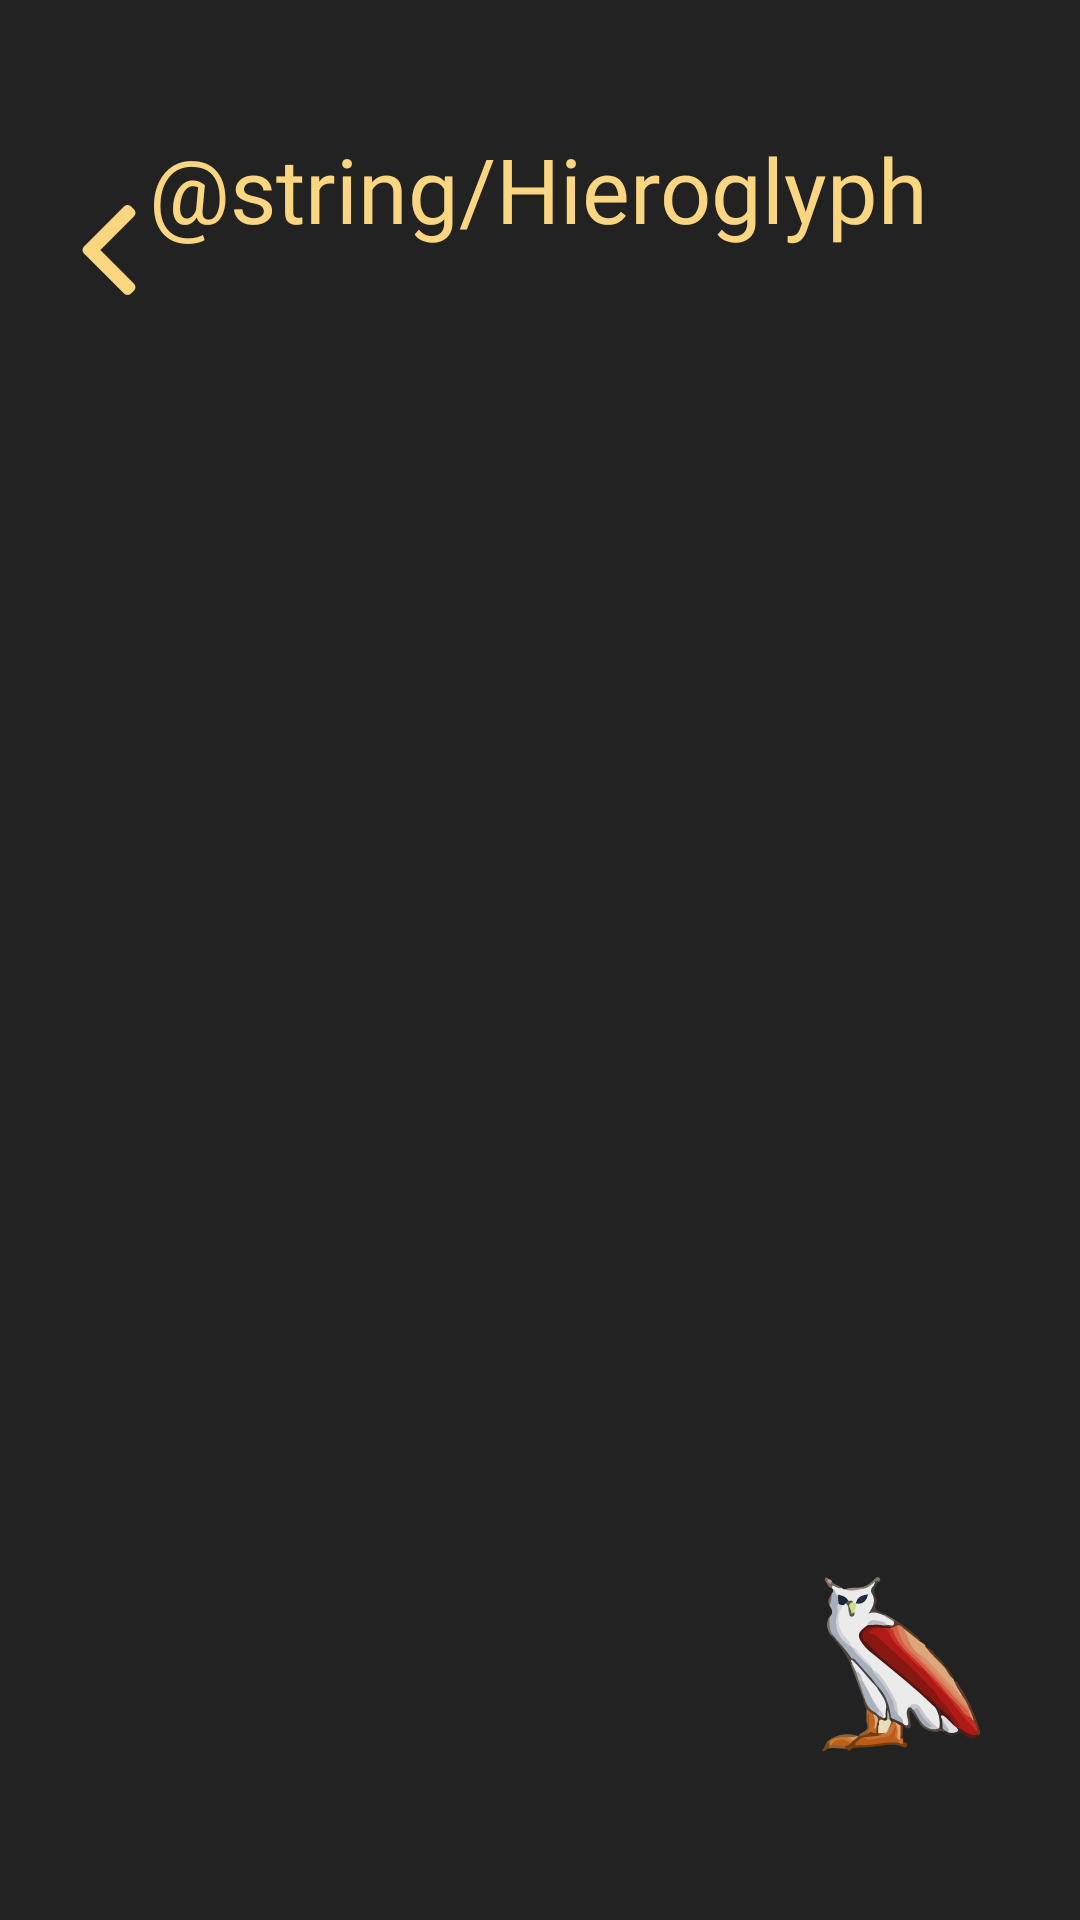

Where icons sit on this 1080*1920 app screen, as (x1, y1, x2, y2):
arrow: (82, 205, 136, 295)
